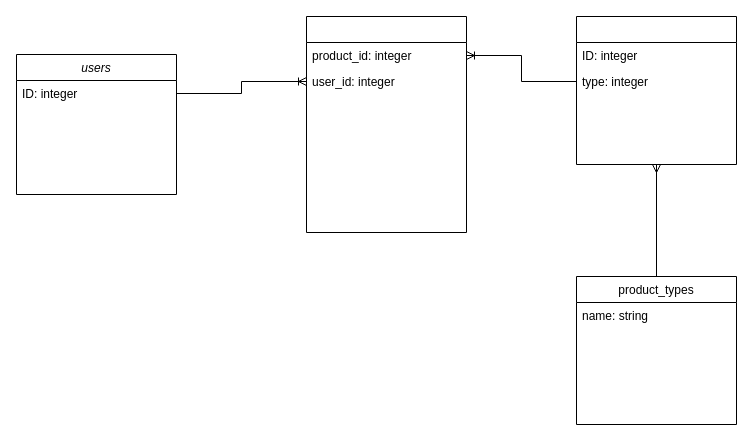
Some shapes in this 753 by 441 pixel diagram are drawn without their labels. Each missing label, with the box of its shape:
orders: (306, 16, 466, 232)
products: (576, 16, 736, 164)
